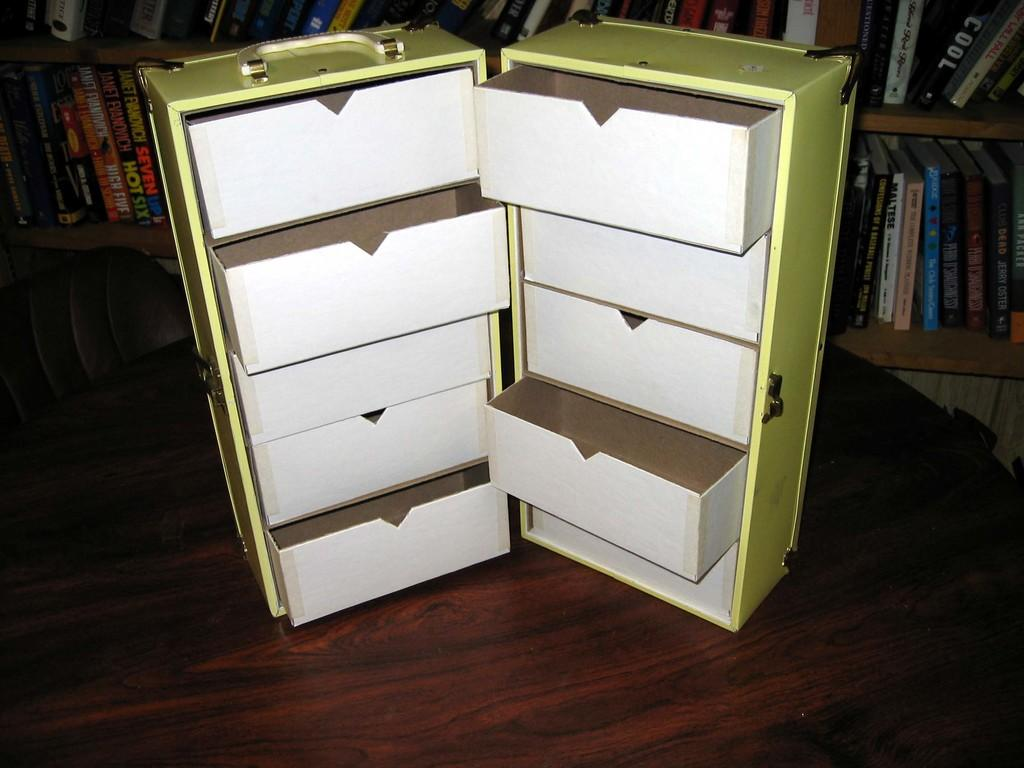Book: (840, 135, 1023, 343), (0, 69, 168, 227), (2, 0, 372, 58), (859, 0, 1023, 122), (483, 0, 781, 54), (77, 65, 131, 219)
